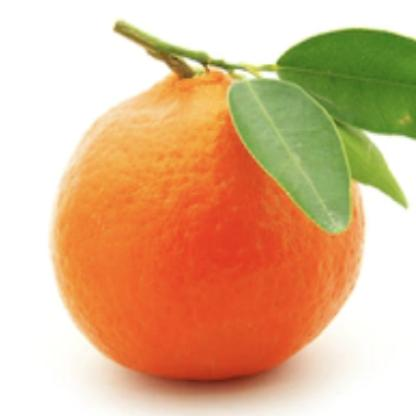fresh: (55, 58, 362, 385)
